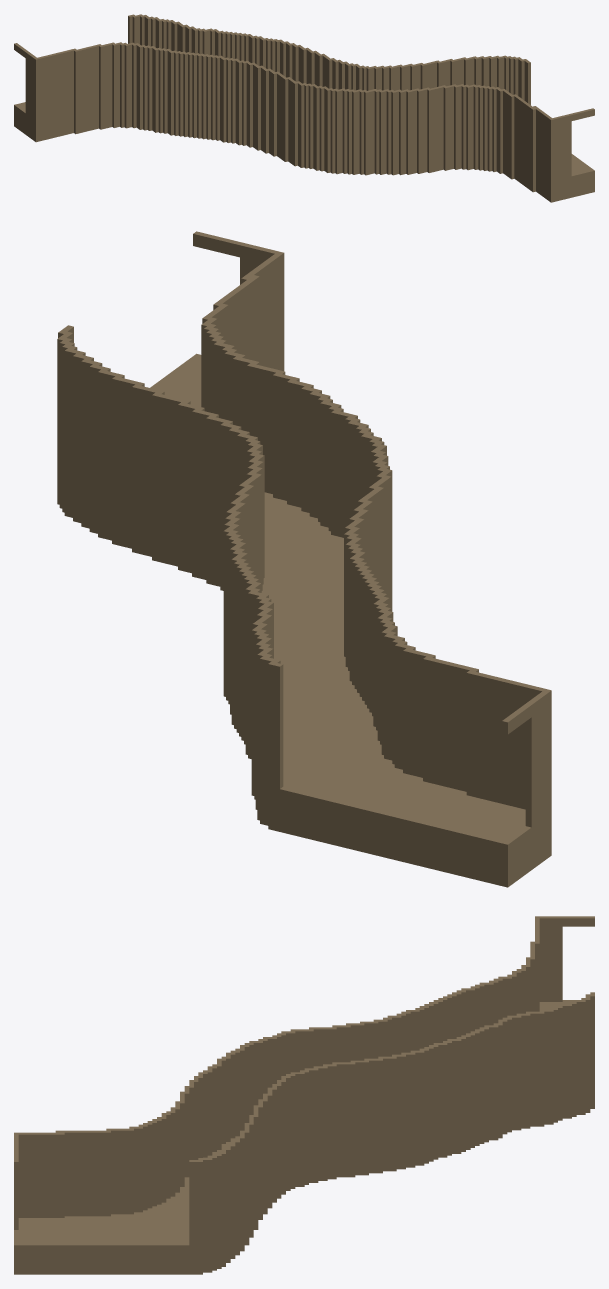
Rendered from CornerCorridor-2.obj.
3 renders of one model, top to bottom at view 1: azimuth 30°, elevation 25°; view 2: azimuth 150°, elevation 25°; view 3: azimuth 270°, elevation 25°, orthographic. The views are drawn at different scales.
Size of the model in its own units: 12.6 by 2.7 by 12.6.
